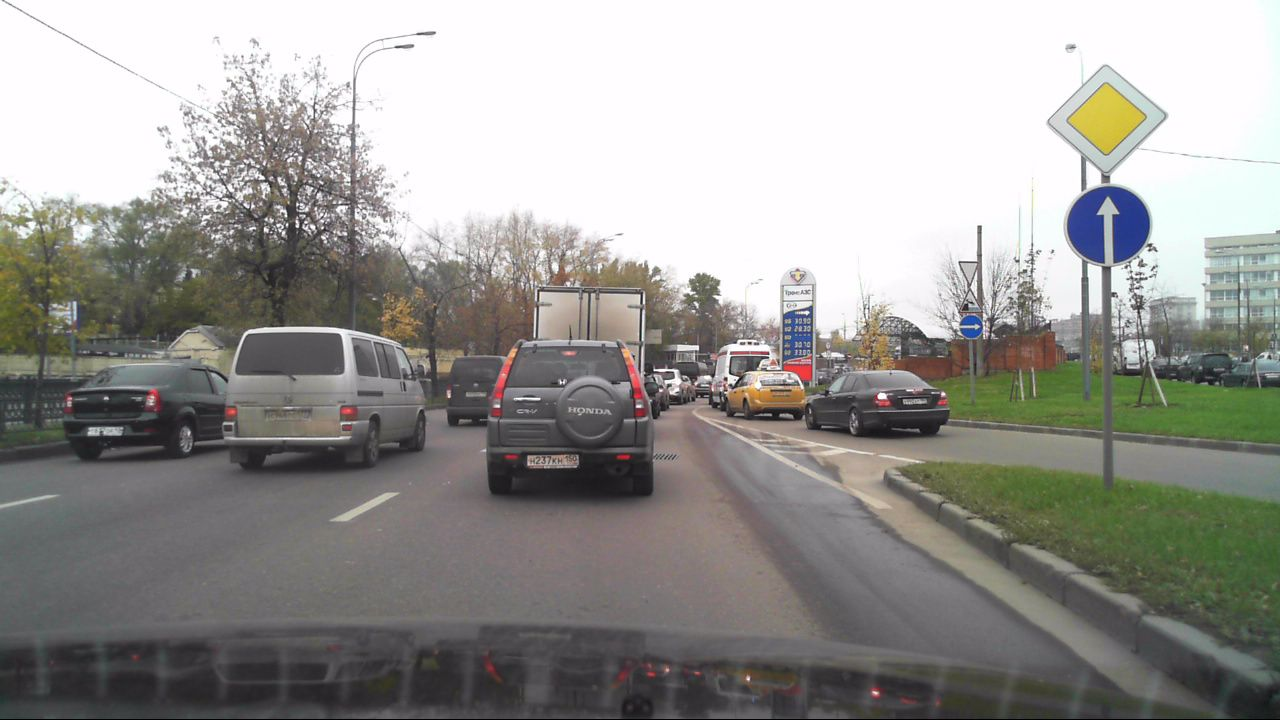Turn Right: (959, 315, 983, 339)
